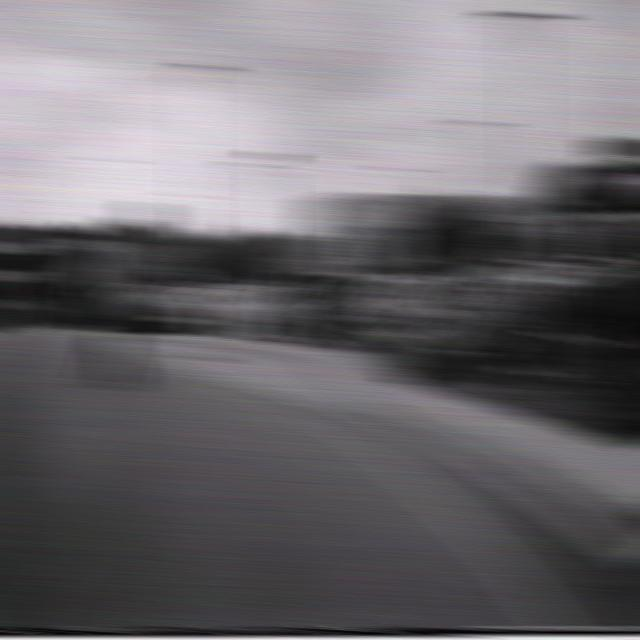stop: (297, 251, 329, 273), (74, 254, 105, 276)
